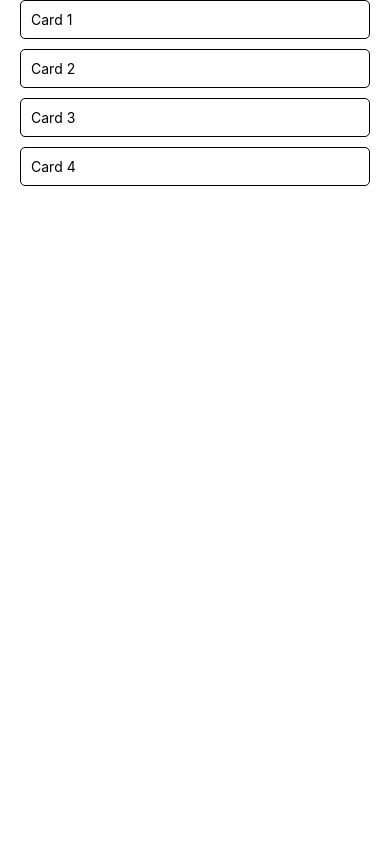
it: opens card 1 details modal on press
The width and height of the screenshot is (390, 844).
Click the text "Card 1".
click(52, 20)  # box [31,11,72,28]
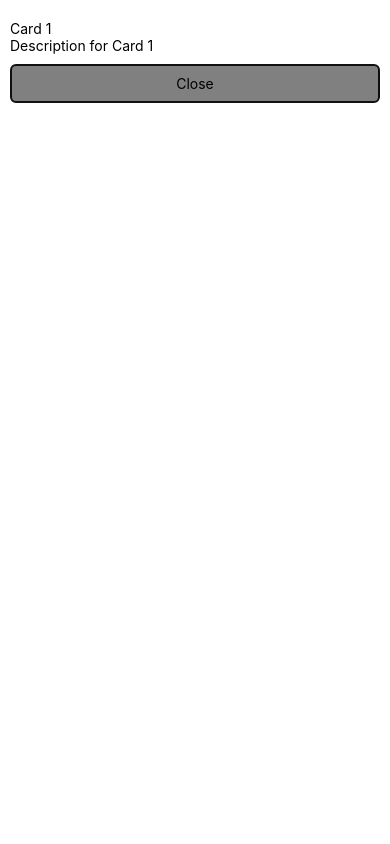
Expected: the text "Description for Card 1" is shown, [10,37,153,54]
